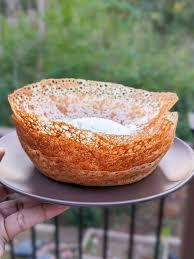Hoppers: (13, 74, 176, 198)
